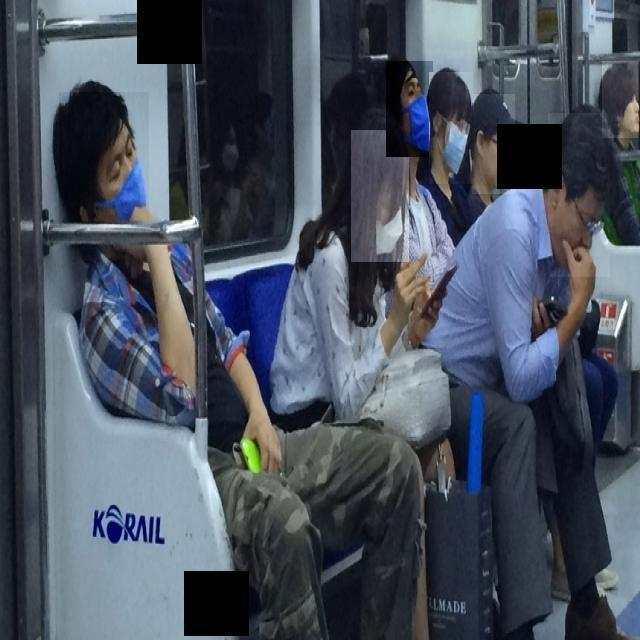mask: (59, 162, 155, 225), (351, 192, 409, 262), (386, 90, 433, 157), (430, 123, 474, 180)
no_apron: (382, 251, 436, 352), (560, 236, 605, 331), (240, 397, 291, 480)
no_gloves: (541, 109, 623, 209), (50, 75, 140, 148), (336, 141, 405, 194), (427, 65, 471, 124), (474, 84, 512, 147), (596, 63, 639, 106), (367, 55, 422, 84)
no_hairnet: (548, 210, 610, 277), (470, 139, 515, 191), (602, 101, 639, 138)
